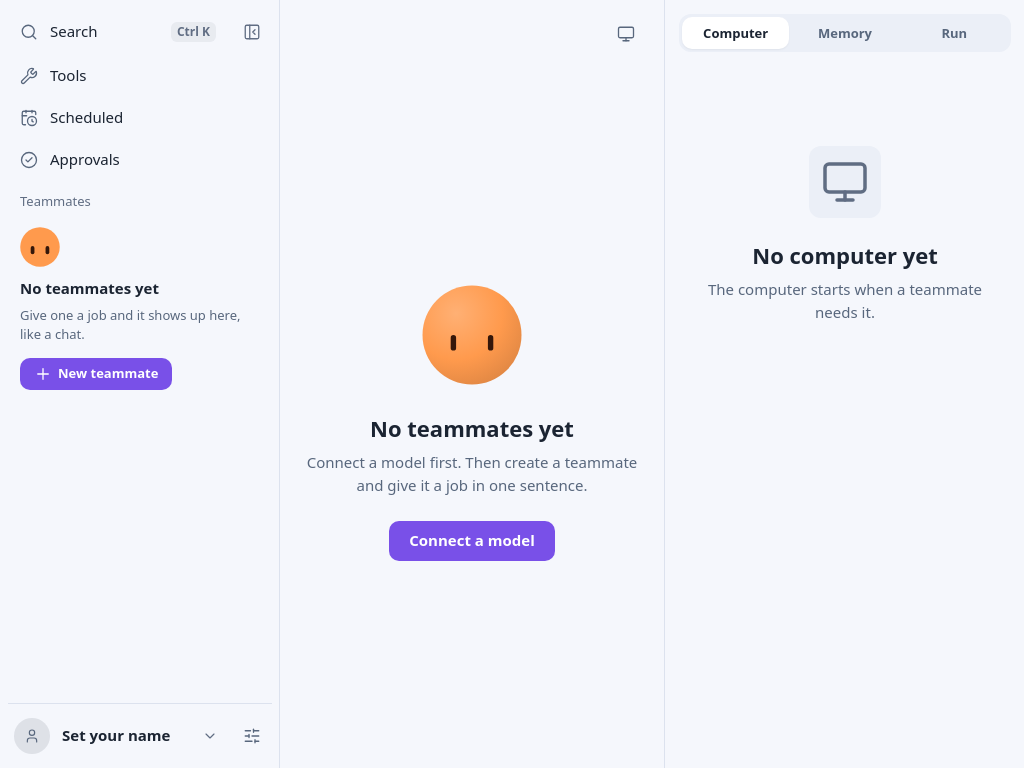
Test case: app shell › moves between views from the sidebar
Click the link "Scheduled": click(72, 117) [20,107,123,127]
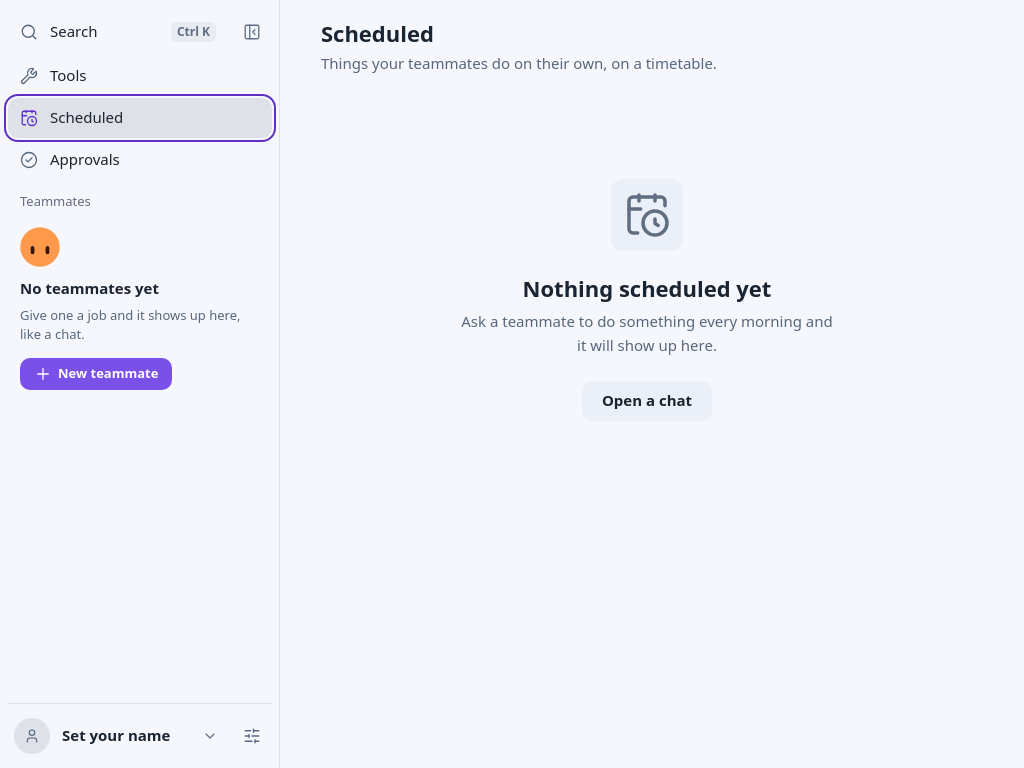
Expected: the heading "Scheduled" is shown, [321,18,434,48]
